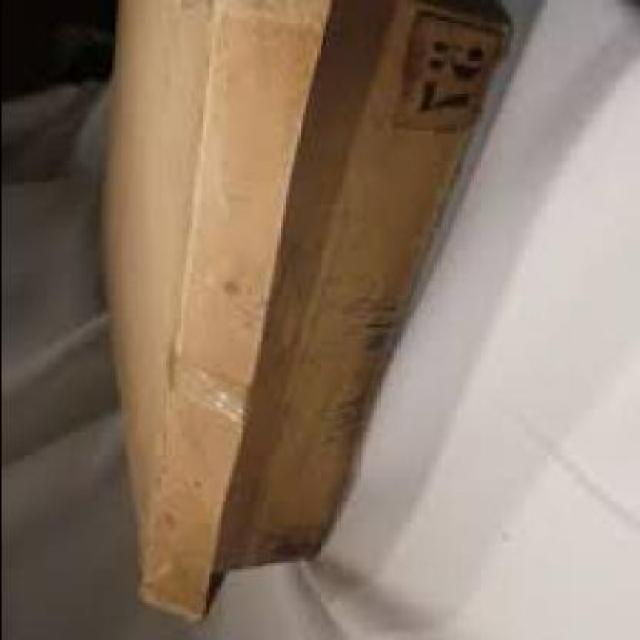CARDBOARD: (94, 0, 503, 623)
